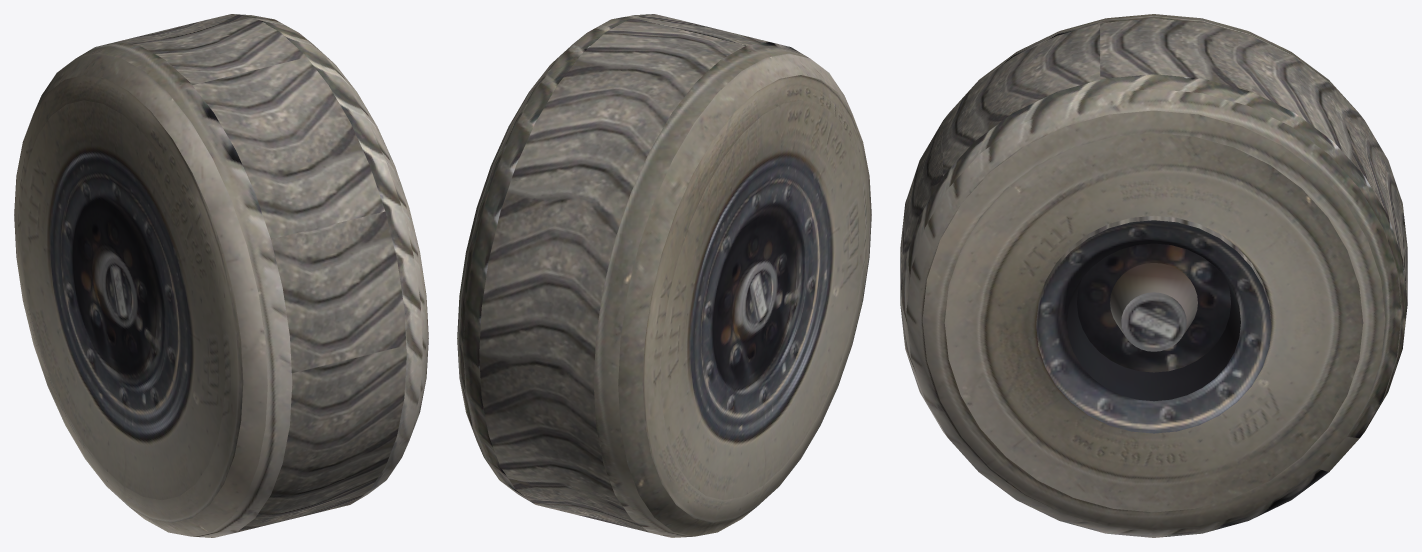
The model's file is J8_Wheel_90.fbx.
The picture shows the model from 3 angles, left to right: view 1: azimuth 30°, elevation 25°; view 2: azimuth 150°, elevation 25°; view 3: azimuth 270°, elevation 25°; orthographic projection.
Parts seen in each view (by area): view 1: Wheel; view 2: Wheel; view 3: Wheel.
Boxes of the visible parts, box(x1,y1,x2,y2) form: Wheel: box(14, 14, 428, 537); Wheel: box(457, 14, 871, 537); Wheel: box(900, 14, 1407, 537).
Size of the model in its own units: 33.28 by 71.86 by 71.86.
